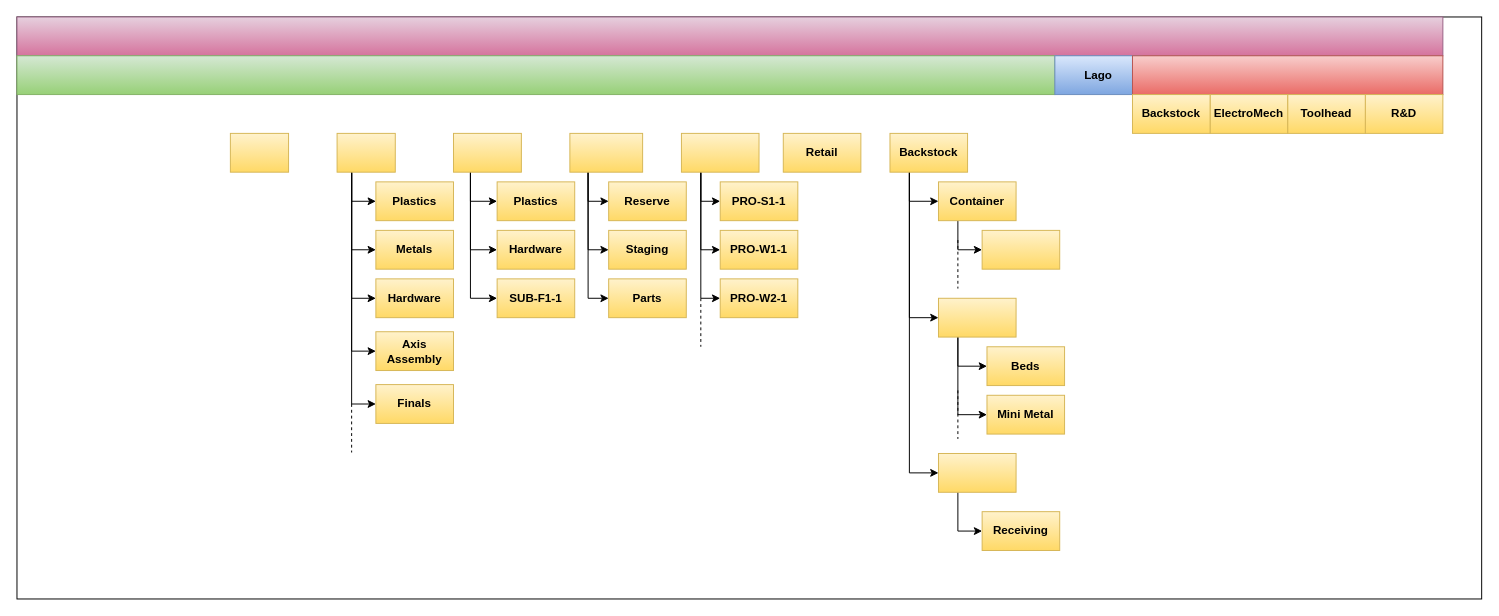
This 1499x616 diagram has some shape labels left out. Here are the shapes that lost their labels. From the top down, the centre of each, then its label:
At point (729, 36): "Aleph Objects, Inc.".
At point (535, 75): "Mountain".
At point (1287, 75): "Rockies".
At point (259, 152): "MER".
At point (365, 152): "Presub".
At point (487, 152): "MicroWip".
At point (606, 152): "Cluster".
At point (719, 152): "Production".
At point (1020, 249): "CTR-1".
At point (977, 317): "Warehouse".
At point (977, 472): "Dock".
